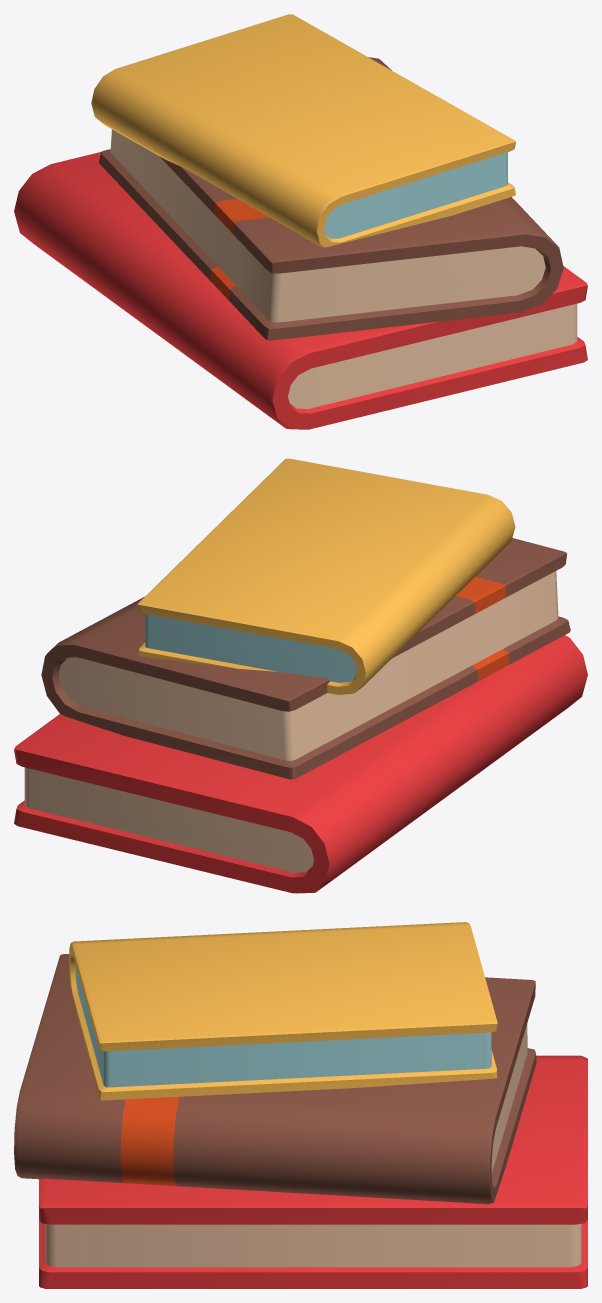
File: Book_08.glb
3 renders of one model, top to bottom at view 1: azimuth 30°, elevation 25°; view 2: azimuth 150°, elevation 25°; view 3: azimuth 270°, elevation 25°, orthographic. The views are drawn at different scales.
Parts seen in each view (by area): view 1: Book_08; view 2: Book_08; view 3: Book_08.
Part boxes in pixels (bbox=[...]): Book_08: bbox=[14, 14, 587, 429]; Book_08: bbox=[14, 458, 587, 893]; Book_08: bbox=[14, 922, 587, 1288].
Bounding box in the file's own units: 0.2462 × 0.1483 × 0.3414.
1 material, 1 textured.
